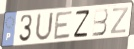3: (19, 14, 34, 43)
B: (91, 7, 109, 38)
E: (53, 9, 74, 41)
U: (34, 11, 55, 43)
Z: (109, 6, 130, 35), (72, 9, 91, 39)
